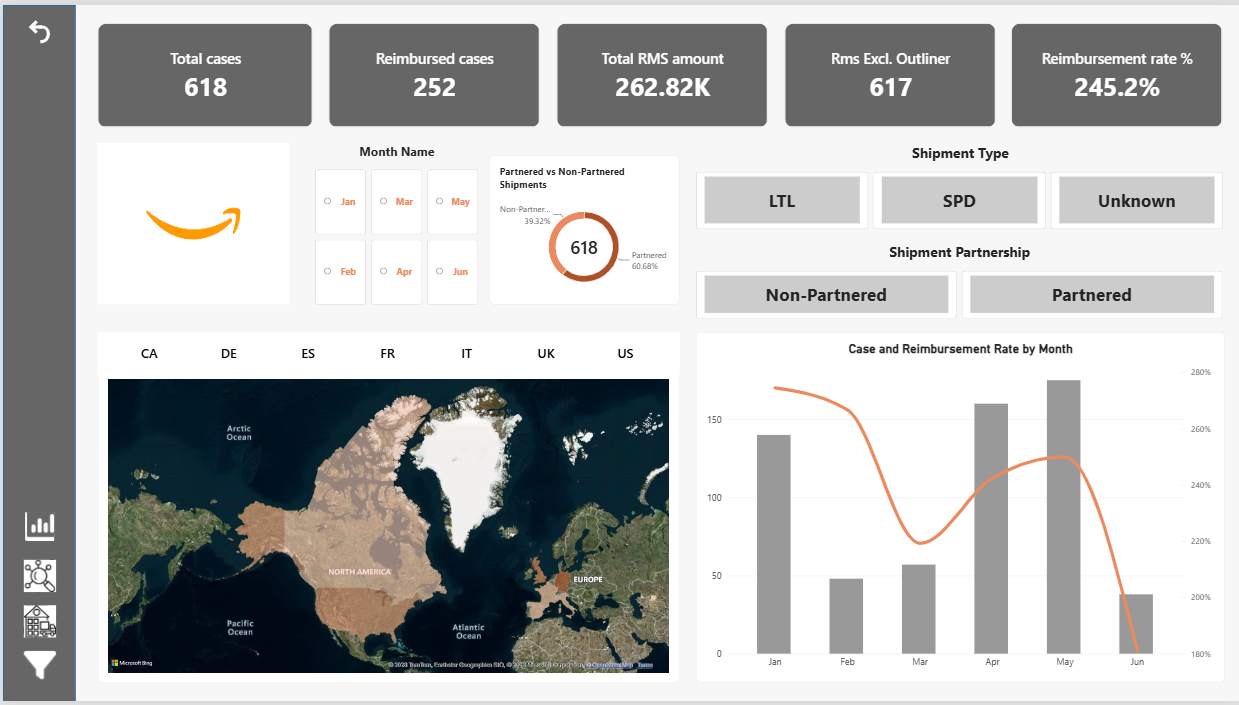

Layout of this report page (visuals, bound fields, positions):
{"tool":"powerbi","page":{"name":"Executive Overview","canvas":[1920,1080],"ordinal":0},"visuals":[{"type":"shape","box":[0,0,112.5,1080],"z":0},{"type":"cardVisual","fields":{"Data":["Measures_Table.Total cases"]},"box":[147.5,27.5,334,162.5],"z":0,"group":"g1"},{"type":"advancedSlicerVisual","fields":{"Values":["RMS_Clean.Shipment Type"]},"box":[1073.5,214.7,819.8,134.2],"z":0,"group":"g3"},{"type":"filledMap","title":"Case by Marketplace","fields":{"Category":["RMS_Clean.Country"]},"box":[146.4,564.9,902.7,486.7],"z":0,"group":"g2"},{"type":"actionButton","box":[7.5,850,100,72.5],"z":0,"group":"g4"},{"type":"cardVisual","fields":{"Data":["Measures_Table.Reimbursed cases"]},"box":[506,27.5,328.3,162.5],"z":1000,"group":"g1"},{"type":"advancedSlicerVisual","fields":{"Values":["RMS_Clean.Shipment Partnership"]},"box":[1073.5,368.4,817.3,119.6],"z":1000,"group":"g3"},{"type":"advancedSlicerVisual","fields":{"Values":["RMS_Clean.Marketplace"]},"box":[146.4,507.5,902.7,67.4],"z":1000,"group":"g2"},{"type":"lineStackedColumnComboChart","title":"Case and Reimbursement Rate by Month","fields":{"Category":["Calendar.Month Name"],"Y":["Measures_Table.Total cases"],"Y2":["Measures_Table.Reimbursement rate %"]},"box":[1073.5,507.5,819.8,544.1],"z":1000},{"type":"actionButton","box":[7.5,922.5,100,65],"z":1000,"group":"g4"},{"type":"cardVisual","fields":{"Data":["Measures_Table.Reimbursement rate %"]},"box":[1564.2,27.5,328.3,162.5],"z":2000,"group":"g1"},{"type":"advancedSlicerVisual","fields":{"Values":["Calendar.Month Name"]},"box":[483.1,214.7,253.7,251.3],"z":2000},{"type":"actionButton","box":[7.5,767.5,100,82.5],"z":2000,"group":"g4"},{"type":"cardVisual","fields":{"Data":["Measures_Table.Total RMS amount"]},"box":[858.7,27.5,328.3,162.5],"z":3000,"group":"g1"},{"type":"image","box":[147.5,215,297.5,250],"z":3000},{"type":"actionButton","box":[7.5,987.5,100,70],"z":3000,"group":"g4"},{"type":"group","id":"g1","title":"KPI cards","box":[147.5,27.5,1745,162.5],"z":4000},{"type":"cardVisual","fields":{"Data":["Measures_Table.Rms Excl. Outliner"]},"box":[1211.5,27.5,328.3,162.5],"z":4000,"group":"g1"},{"type":"actionButton","box":[7.3,0,100,82.5],"z":5000},{"type":"group","id":"g2","title":"Map","box":[146.4,507.5,902.7,544.1],"z":6000},{"type":"donutChart","title":"Partnered vs Non-Partnered Shipments","fields":{"Category":["RMS_Clean.Shipment Partnership"],"Y":["Measures_Table.Total cases"]},"box":[753.9,231.8,295.2,231.8],"z":7000},{"type":"group","id":"g3","title":"Slicers","box":[1073.5,214.7,819.8,273.3],"z":8000},{"type":"group","id":"g4","title":"Navigation buttons","box":[7.5,767.5,100,290],"z":9000}]}

Visuals, with their boxes on the page's 1920x1080 design canvas (x1, y1, x2, y2). These are canvas units, not pixel positions in the 1239x705 screenshot, which may show the page scaled, cropped or inside an application window:
shape: bbox=(0, 0, 112, 1080)
cardVisual - Measures_Table.Total cases: bbox=(148, 28, 482, 190)
advancedSlicerVisual - RMS_Clean.Shipment Type: bbox=(1074, 215, 1893, 349)
"Case by Marketplace" filledMap: bbox=(146, 565, 1049, 1052)
actionButton: bbox=(8, 850, 108, 922)
cardVisual - Measures_Table.Reimbursed cases: bbox=(506, 28, 834, 190)
advancedSlicerVisual - RMS_Clean.Shipment Partnership: bbox=(1074, 368, 1891, 488)
advancedSlicerVisual - RMS_Clean.Marketplace: bbox=(146, 508, 1049, 575)
"Case and Reimbursement Rate by Month" lineStackedColumnComboChart: bbox=(1074, 508, 1893, 1052)
actionButton: bbox=(8, 922, 108, 988)
cardVisual - Measures_Table.Reimbursement rate %: bbox=(1564, 28, 1892, 190)
advancedSlicerVisual - Calendar.Month Name: bbox=(483, 215, 737, 466)
actionButton: bbox=(8, 768, 108, 850)
cardVisual - Measures_Table.Total RMS amount: bbox=(859, 28, 1187, 190)
image: bbox=(148, 215, 445, 465)
actionButton: bbox=(8, 988, 108, 1058)
"KPI cards" group: bbox=(148, 28, 1892, 190)
cardVisual - Measures_Table.Rms Excl. Outliner: bbox=(1212, 28, 1540, 190)
actionButton: bbox=(7, 0, 107, 82)
"Map" group: bbox=(146, 508, 1049, 1052)
"Partnered vs Non-Partnered Shipments" donutChart: bbox=(754, 232, 1049, 464)
"Slicers" group: bbox=(1074, 215, 1893, 488)
"Navigation buttons" group: bbox=(8, 768, 108, 1058)
